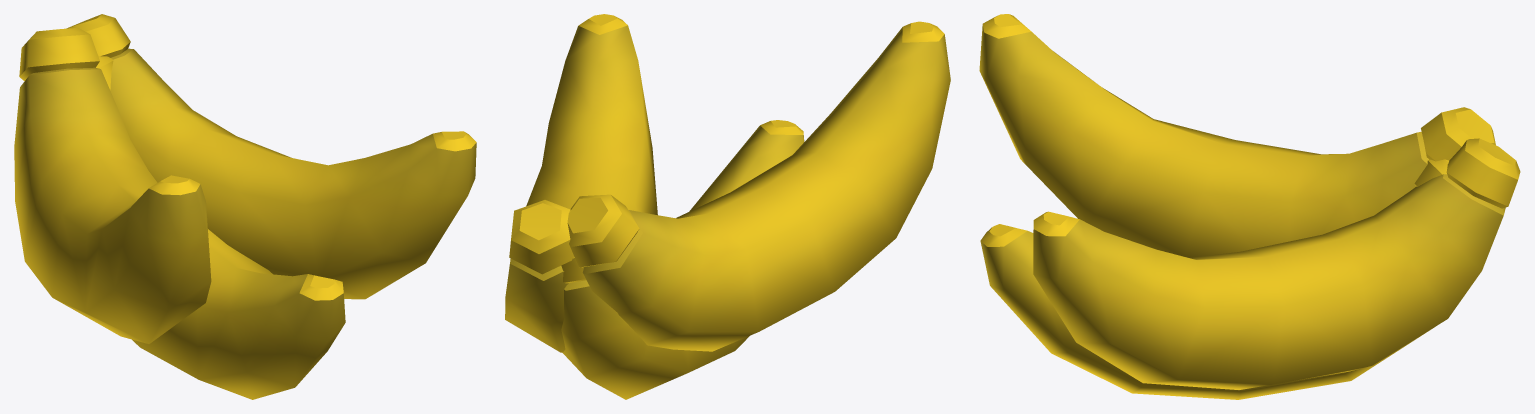
Rendered from Banana_2.glb.
3 views of the same model, side by side, from view 1: azimuth 30°, elevation 25°; view 2: azimuth 150°, elevation 25°; view 3: azimuth 270°, elevation 25° (orthographic). The views are drawn at different scales.
Visible parts, largest first — view 1: Banana_2; view 2: Banana_2; view 3: Banana_2.
Boxes of the visible parts, x1,y1,x2,y2 form: Banana_2: (14,14,476,399); Banana_2: (505,14,950,399); Banana_2: (979,14,1520,399).
Bounding box in the file's own units: 0.2088 × 0.1708 × 0.2668.
Materials: 1 (1 with a texture image).
